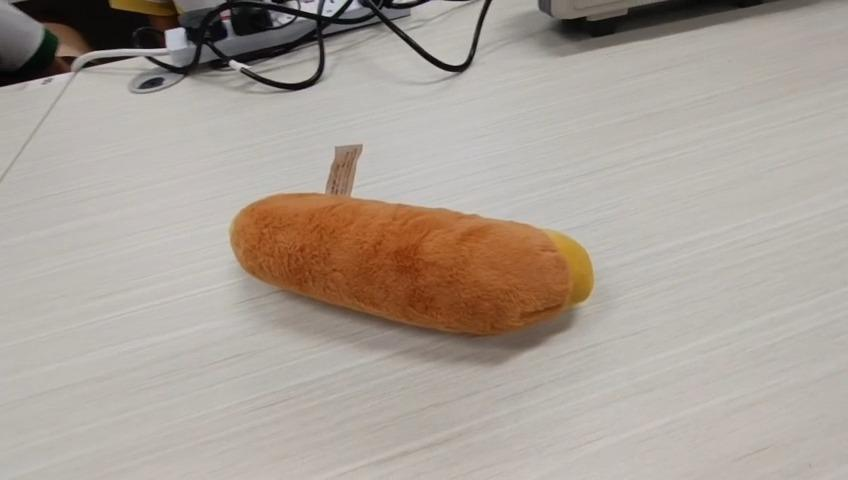hotdog: (229, 143, 595, 335)
